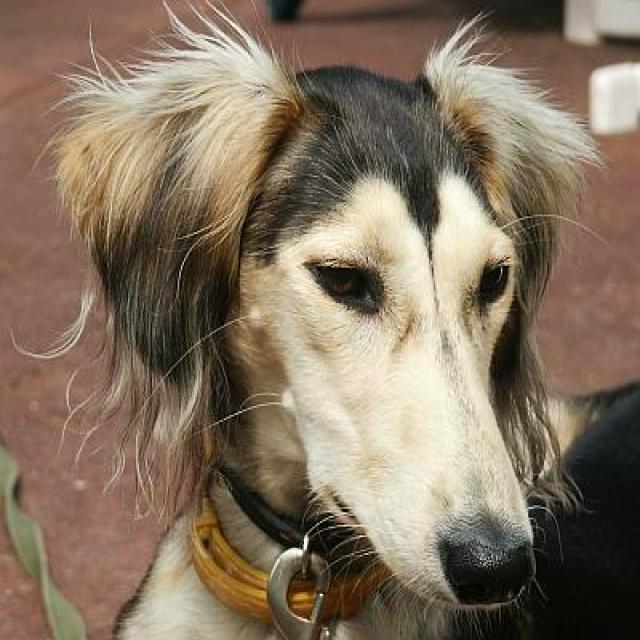saluki: (10, 2, 612, 638)
